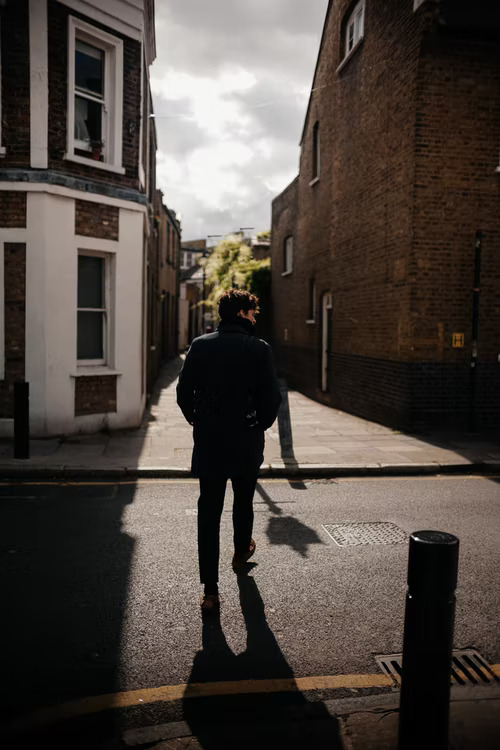person: (177, 288, 283, 595)
